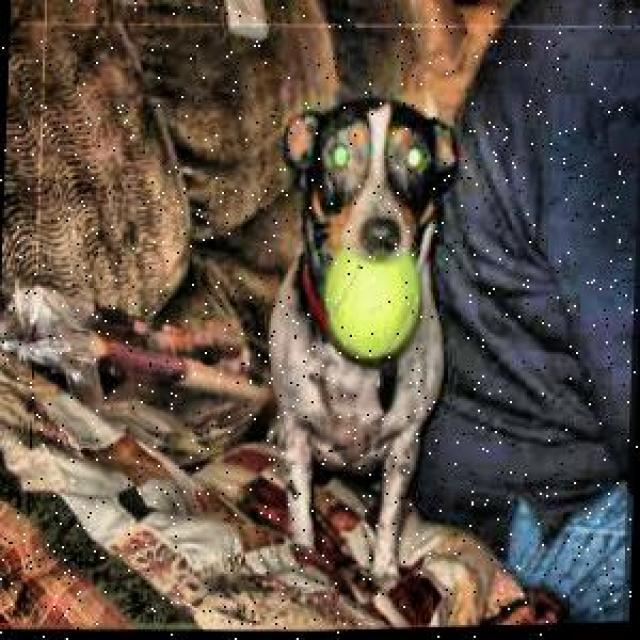tennis-ball: (322, 248, 423, 366)
